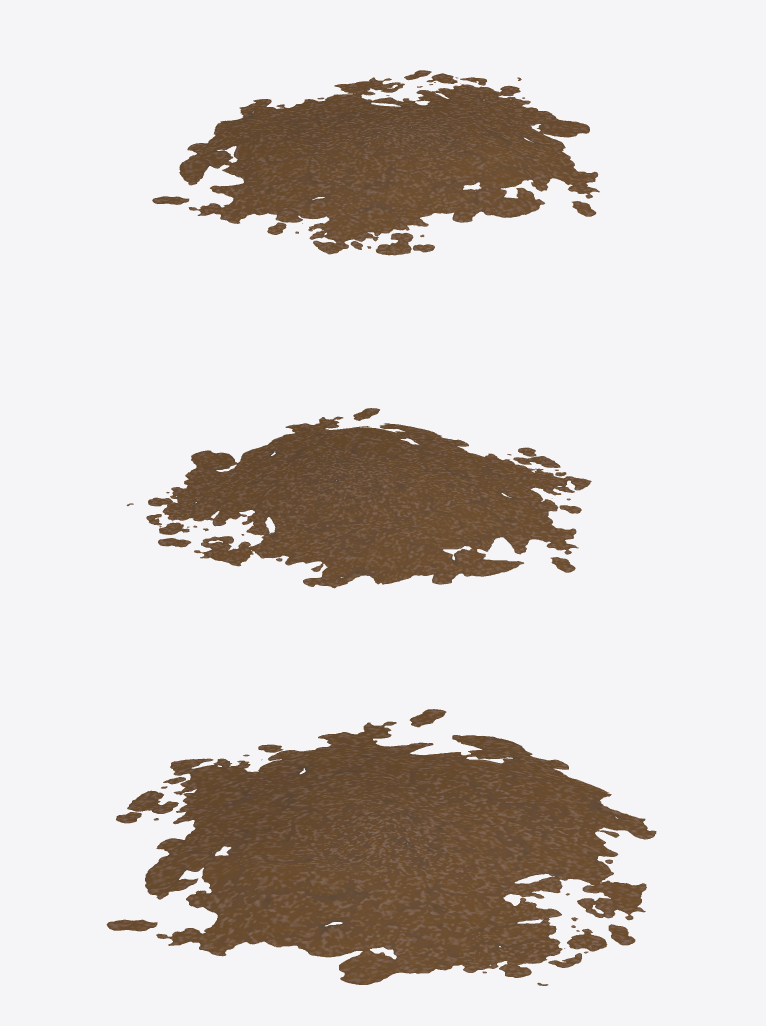
Rendered from Ground_decal_mud.fbx.
3 views of the same model, one above another, from view 1: azimuth 30°, elevation 25°; view 2: azimuth 150°, elevation 25°; view 3: azimuth 270°, elevation 25° (orthographic). The views are drawn at different scales.
Visible parts, largest first — view 1: Ground_decal_mud; view 2: Ground_decal_mud; view 3: Ground_decal_mud.
Boxes of the visible parts, box(x1,y1,x2,y2) form: Ground_decal_mud: box(152, 70, 599, 255); Ground_decal_mud: box(126, 408, 591, 588); Ground_decal_mud: box(106, 709, 656, 985).
Size of the model in its own units: 221 by 14.97 by 221.
Materials: 1 (1 with a texture image).
